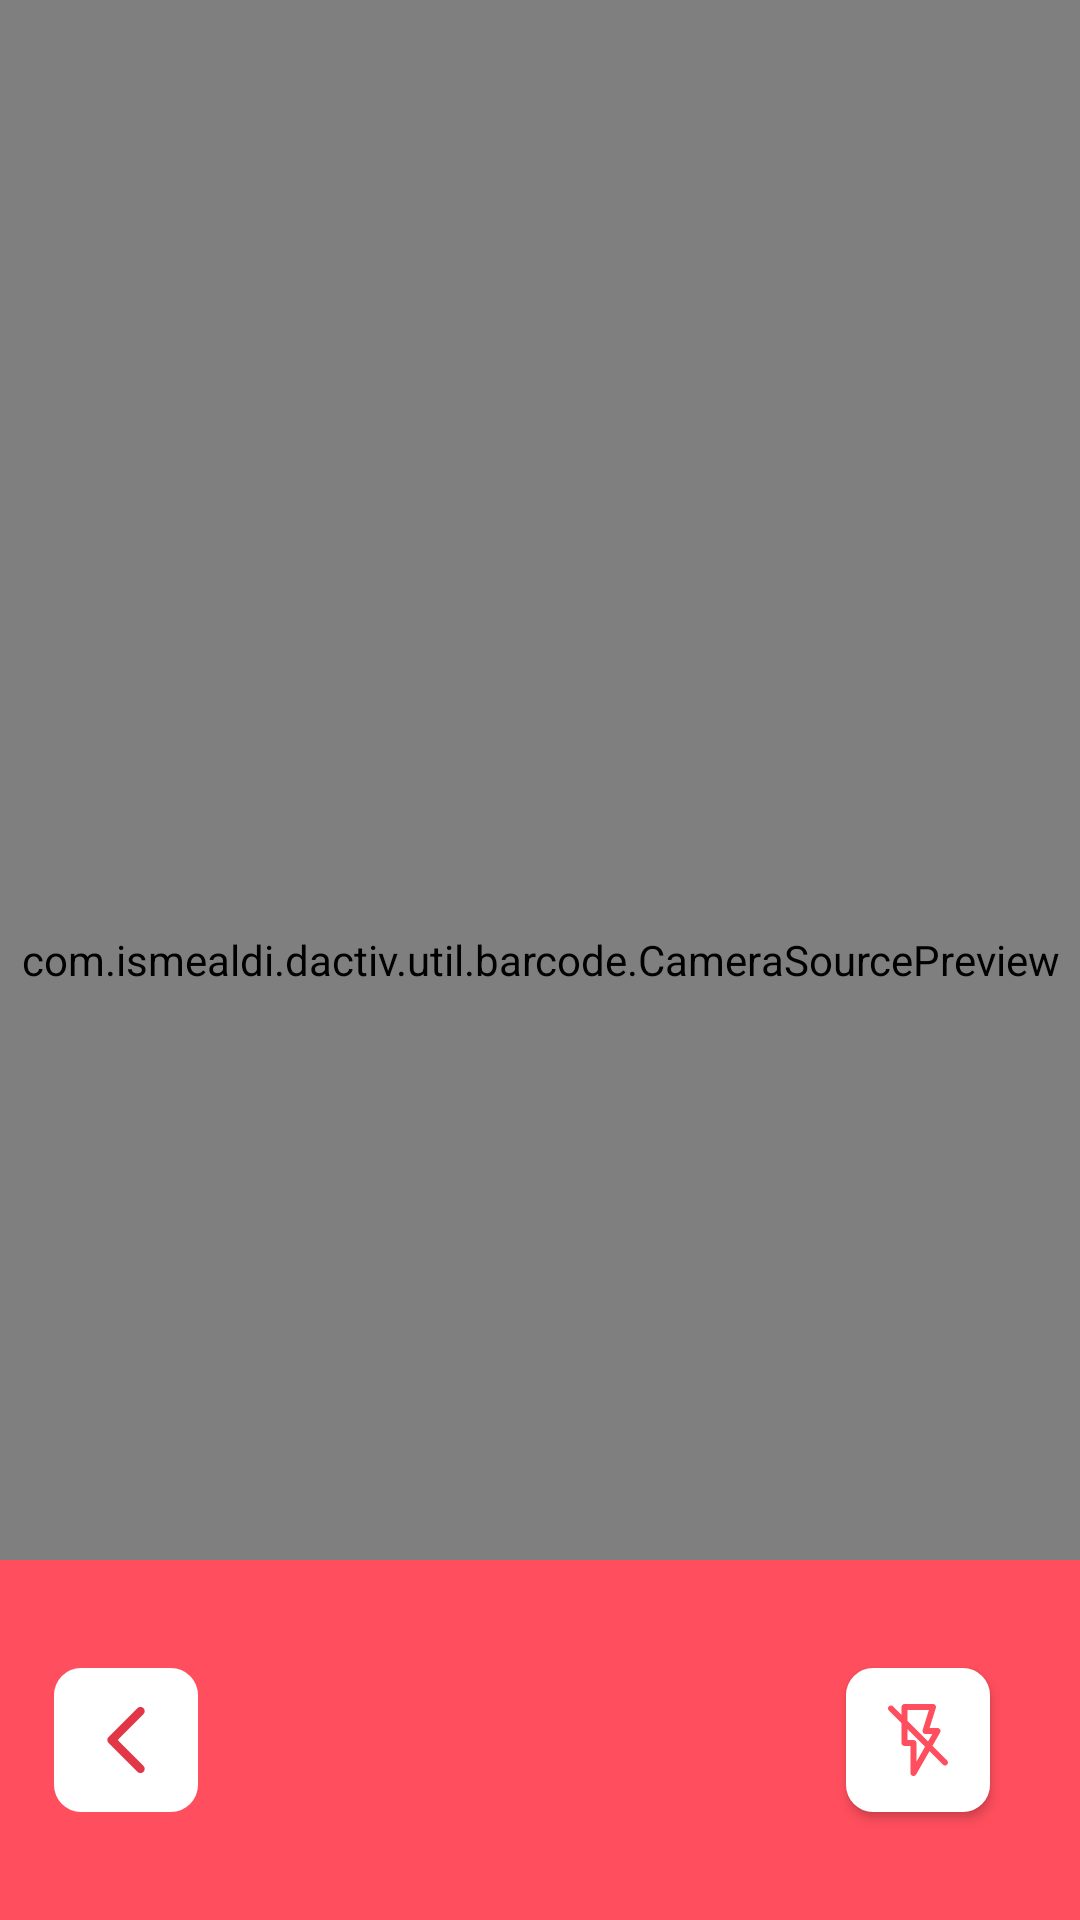

Screen size 1080*1920. Icon name, then its box in pixels as (x1, y1, x2, y2):
backward: (54, 1668, 198, 1812)
